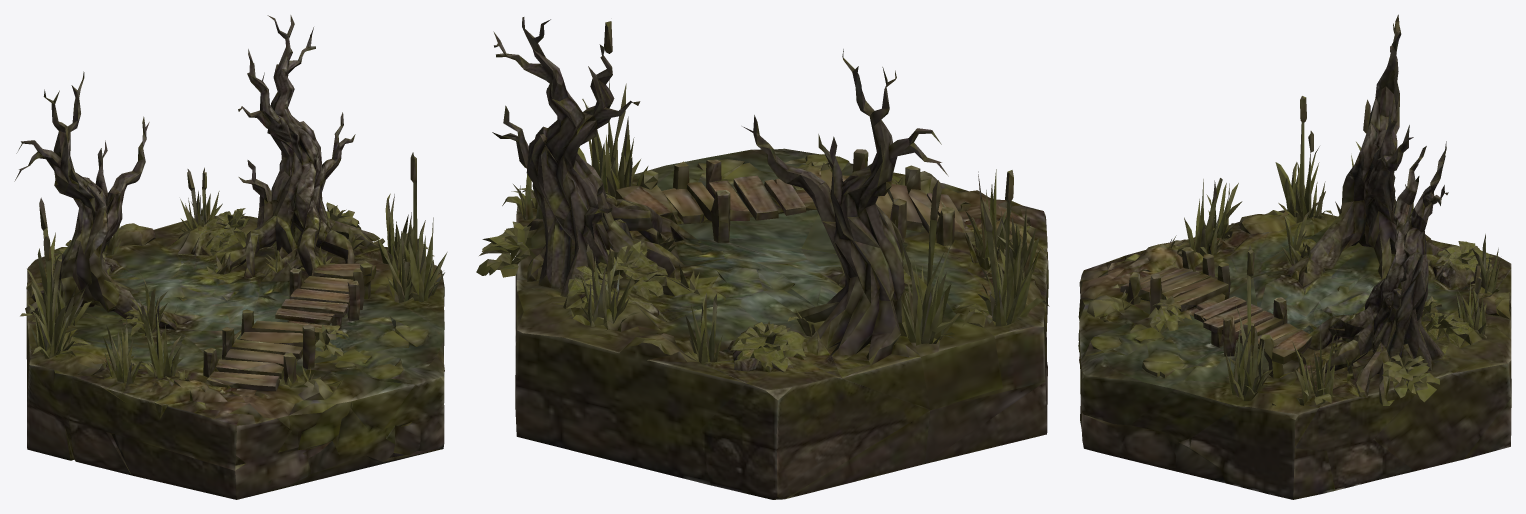
The model's file is marsh.glb.
The picture shows the model from 3 angles, left to right: view 1: azimuth 30°, elevation 25°; view 2: azimuth 150°, elevation 25°; view 3: azimuth 270°, elevation 25°; orthographic projection. The views are drawn at different scales.
Bounding box in the file's own units: 2.35 × 1.71 × 2.08.
Materials: 1 (1 with a texture image).
